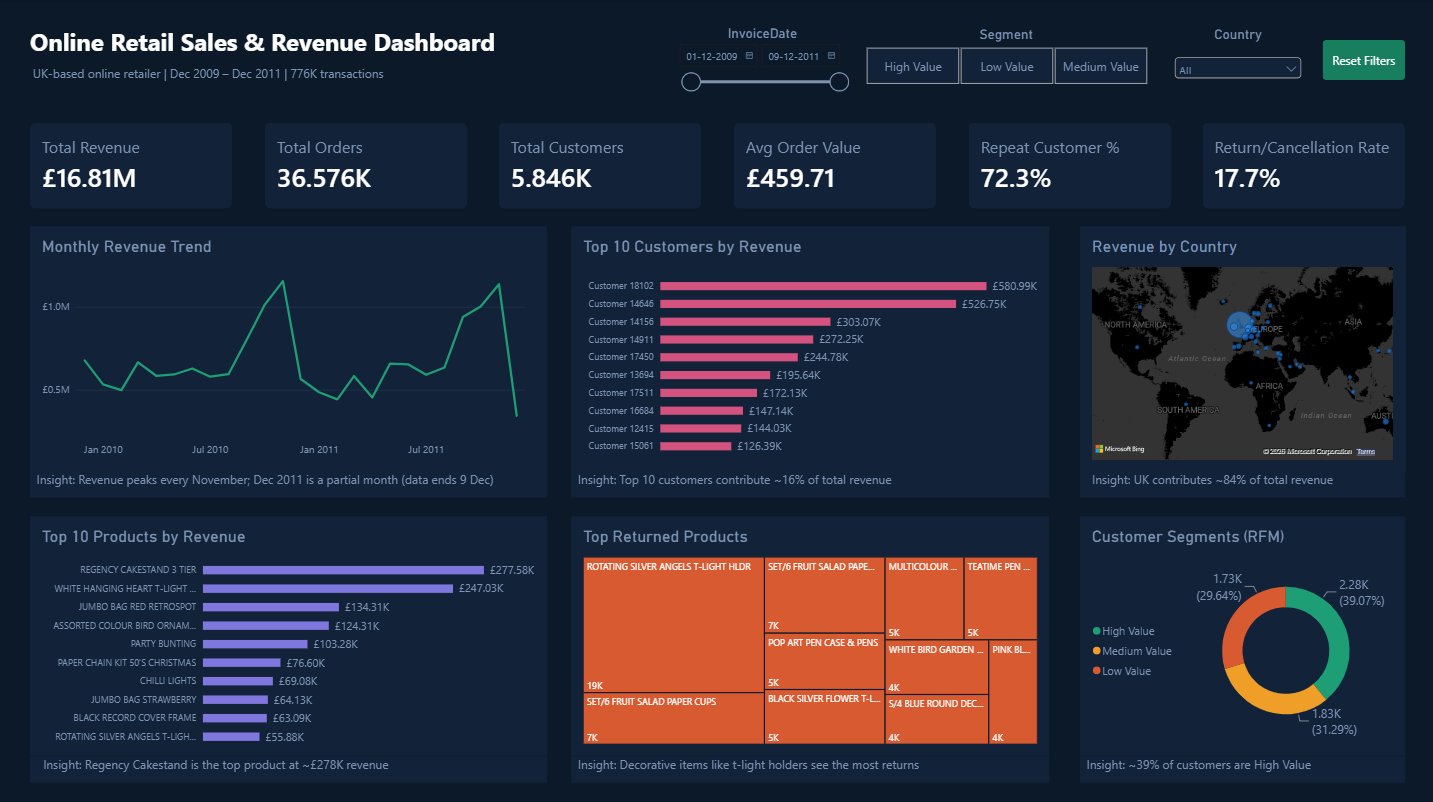

The dashboard page shown, as its layout file describes it:
{"tool":"powerbi","page":{"name":"Page 1","canvas":[1920,1080],"ordinal":0},"visuals":[{"type":"cardVisual","fields":{"Data":["Sum(online_retail_cleaned.Revenue)"]},"box":[40.5,163.8,270.6,116],"z":0},{"type":"cardVisual","fields":{"Data":["Count(online_retail_cleaned.Invoice)"]},"box":[353.7,163.8,270.6,116],"z":1000},{"type":"cardVisual","fields":{"Data":["Count(online_retail_cleaned.CustomerID)"]},"box":[667,163.8,270.6,116],"z":2000},{"type":"cardVisual","fields":{"Data":["online_retail_cleaned.Avg Order Value"]},"box":[980.3,163.8,270.6,116],"z":3000},{"type":"cardVisual","fields":{"Data":["online_retail_cleaned.Repeat Customer %"]},"box":[1293.5,163.8,270.6,116],"z":4000},{"type":"cardVisual","fields":{"Data":["online_retail_cleaned.Return Rate %"]},"box":[1606.8,163.8,270.6,116],"z":5000},{"type":"lineChart","title":"Monthly Revenue Trend","fields":{"Y":["Sum(online_retail_cleaned.Revenue)"],"Category":["online_retail_cleaned.MonthStart"]},"box":[40.5,301.8,690.2,327.6],"z":6000},{"type":"map","title":"Revenue by Country","fields":{"Category":["online_retail_cleaned.Country"],"Size":["Sum(online_retail_cleaned.Revenue)"]},"box":[1443,301.8,434.4,327.6],"z":7000},{"type":"textbox","box":[1443,629.5,434.4,35],"z":8000},{"type":"clusteredBarChart","title":"Top 10 Products by Revenue","fields":{"Category":["online_retail_cleaned.Description"],"Y":["Sum(online_retail_cleaned.Revenue)"]},"box":[40.5,690.2,690.2,320.2],"z":9000},{"type":"textbox","box":[40.5,1010.4,690.2,35],"z":10000},{"type":"textbox","box":[40.5,629.5,690.2,35],"z":11000},{"type":"clusteredBarChart","title":"Top 10 Customers by Revenue","fields":{"Category":["online_retail_cleaned.Customer Label"],"Y":["Sum(online_retail_cleaned.Revenue)"]},"box":[763.8,301.8,638.7,327.6],"z":12000},{"type":"textbox","box":[763.8,629.5,638.7,35],"z":13000},{"type":"treemap","title":"Top Returned Products","fields":{"Group":["returns_data.Description"],"Values":["Sum(returns_data.Returned Qty)"]},"box":[763.8,690.2,638.7,320.2],"z":14000},{"type":"textbox","box":[763.8,1010.4,638.7,35],"z":15000},{"type":"donutChart","title":"Customer Segments (RFM)","fields":{"Category":["rfm_segments.Segment"],"Y":["Count(rfm_segments.CustomerID)"]},"box":[1443,690.2,434,320],"z":16000},{"type":"textbox","box":[1443,1010.4,434.4,35],"z":17000},{"type":"textbox","box":[40.5,33.1,629.5,53.4],"z":18000},{"type":"textbox","box":[40.5,86.5,487.7,38.7],"z":19000},{"type":"slicer","title":"Country","fields":{"Values":["online_retail_cleaned.Country"]},"box":[1564.4,35,178.5,79.1],"z":20000},{"type":"slicer","title":"  InvoiceDate","fields":{"Values":["online_retail_cleaned.InvoiceDate"]},"box":[900,33.1,237.4,93.9],"z":21000},{"type":"slicer","title":"Segment","fields":{"Values":["rfm_segments.Segment"]},"box":[1137.4,35,414.1,79.1],"z":22000},{"type":"actionButton","title":"Reset Filters","box":[1766.9,53.4,110.4,53.4],"z":22001}]}

Visuals, with their boxes in screenshot pixels (x1, y1, x2, y2), scaled from the page's 1920x1080 canvas onto the 1433x802 screenshot:
cardVisual - Sum(online_retail_cleaned.Revenue): [left=30, top=122, right=232, bottom=208]
cardVisual - Count(online_retail_cleaned.Invoice): [left=264, top=122, right=466, bottom=208]
cardVisual - Count(online_retail_cleaned.CustomerID): [left=498, top=122, right=700, bottom=208]
cardVisual - online_retail_cleaned.Avg Order Value: [left=732, top=122, right=934, bottom=208]
cardVisual - online_retail_cleaned.Repeat Customer %: [left=965, top=122, right=1167, bottom=208]
cardVisual - online_retail_cleaned.Return Rate %: [left=1199, top=122, right=1401, bottom=208]
"Monthly Revenue Trend" lineChart: [left=30, top=224, right=545, bottom=467]
"Revenue by Country" map: [left=1077, top=224, right=1401, bottom=467]
textbox: [left=1077, top=467, right=1401, bottom=493]
"Top 10 Products by Revenue" clusteredBarChart: [left=30, top=513, right=545, bottom=750]
textbox: [left=30, top=750, right=545, bottom=776]
textbox: [left=30, top=467, right=545, bottom=493]
"Top 10 Customers by Revenue" clusteredBarChart: [left=570, top=224, right=1047, bottom=467]
textbox: [left=570, top=467, right=1047, bottom=493]
"Top Returned Products" treemap: [left=570, top=513, right=1047, bottom=750]
textbox: [left=570, top=750, right=1047, bottom=776]
"Customer Segments (RFM)" donutChart: [left=1077, top=513, right=1401, bottom=750]
textbox: [left=1077, top=750, right=1401, bottom=776]
textbox: [left=30, top=25, right=500, bottom=64]
textbox: [left=30, top=64, right=394, bottom=93]
"Country" slicer: [left=1168, top=26, right=1301, bottom=85]
"  InvoiceDate" slicer: [left=672, top=25, right=849, bottom=94]
"Segment" slicer: [left=849, top=26, right=1158, bottom=85]
"Reset Filters" actionButton: [left=1319, top=40, right=1401, bottom=79]
